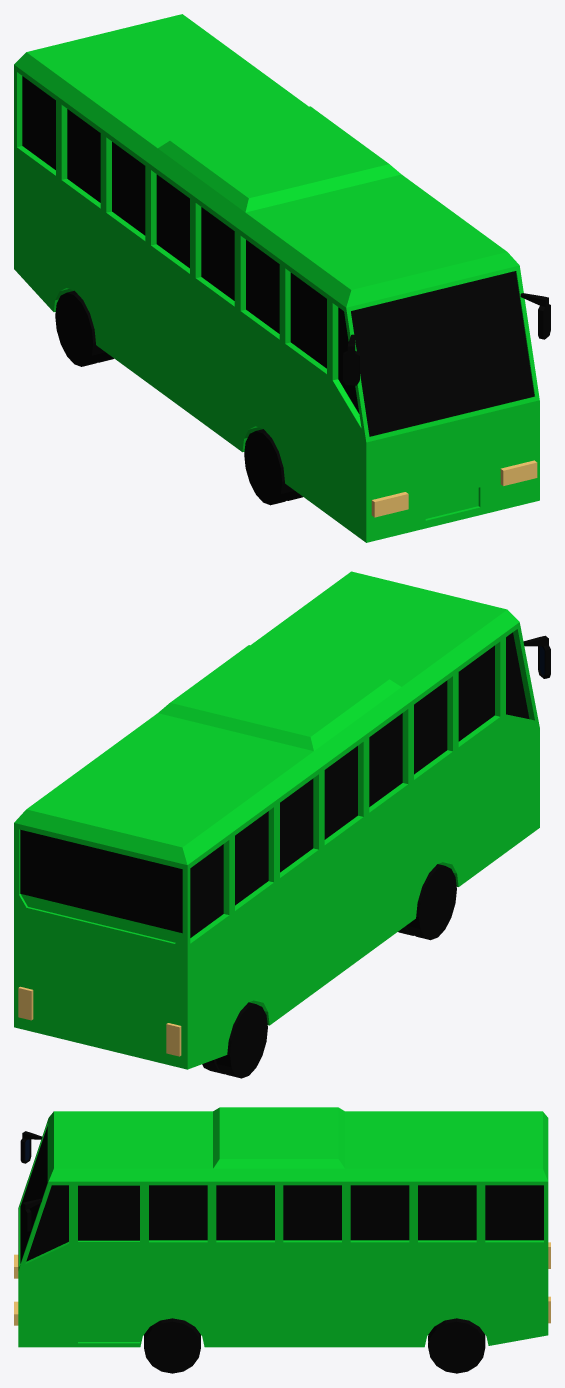
Rendered from bus_green.fbx.
3 views of the same model, one above another, from view 1: azimuth 30°, elevation 25°; view 2: azimuth 150°, elevation 25°; view 3: azimuth 270°, elevation 25° (orthographic). The views are drawn at different scales.
Visible parts, largest first — view 1: bus_green; view 2: bus_green; view 3: bus_green.
Part boxes in pixels (box(x1,y1,x2,y2)): bus_green: box(14, 14, 550, 542); bus_green: box(14, 571, 550, 1078); bus_green: box(14, 1107, 550, 1373).
Bounding box in the file's own units: 329 × 419 × 978.
